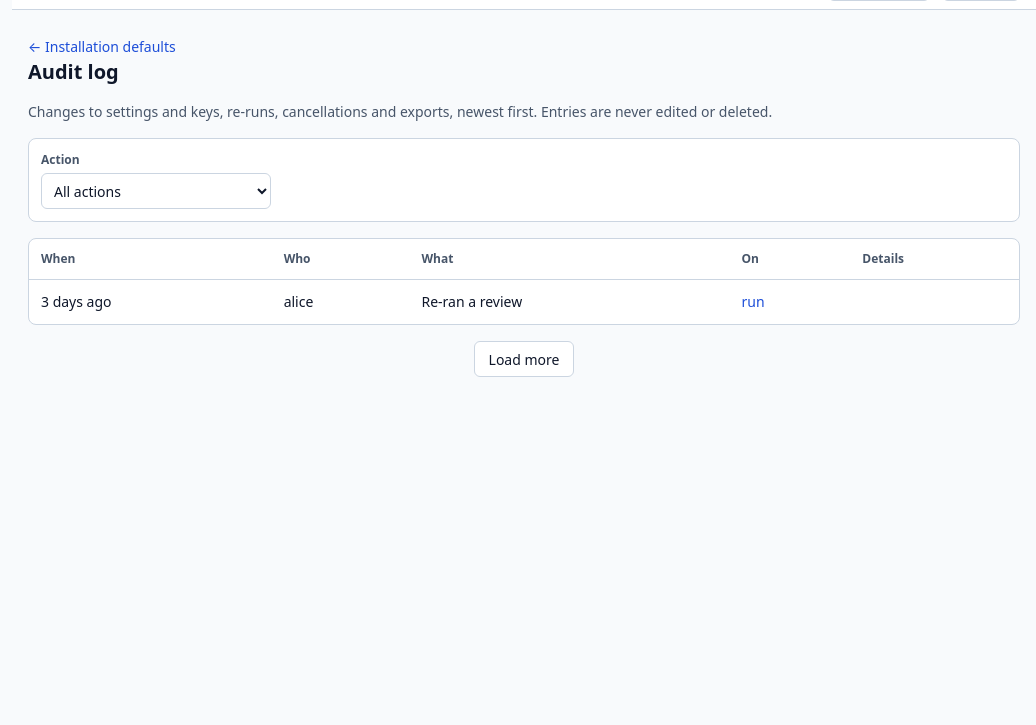
it: Audit log › filters by action and pages
Expected: the text "Re-ran a review" is shown, [409, 280, 729, 324]
Click the button "Load more": [524, 359] box [474, 341, 574, 377]
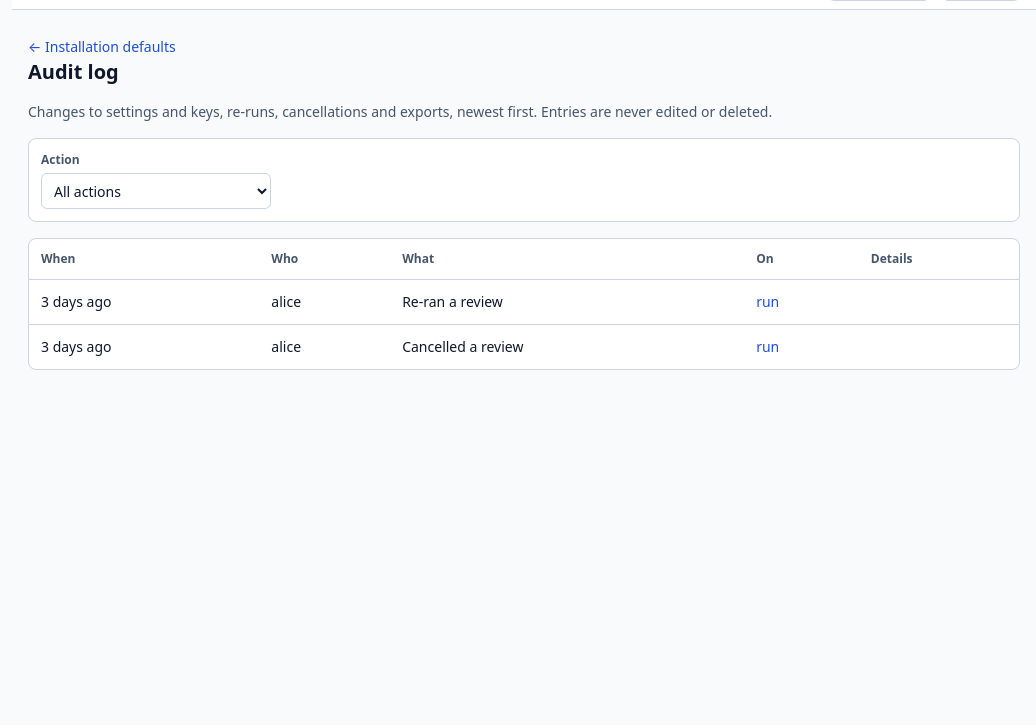
Expected: the text "Cancelled a review" is shown, [390, 324, 744, 369]
Select "Re-ran a review" in the dropdown labelled "Action": [156, 191] box [41, 173, 271, 209]
(page scrolled)
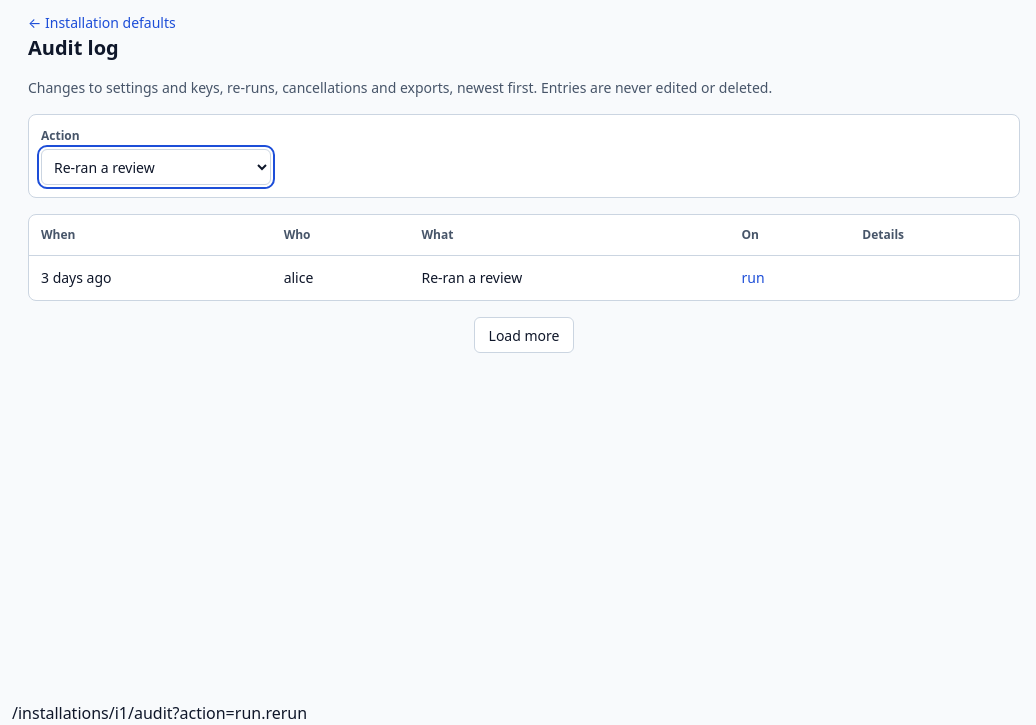
Expected: the text with test id "location" shows "action=run.rerun", [12, 702, 307, 724]
